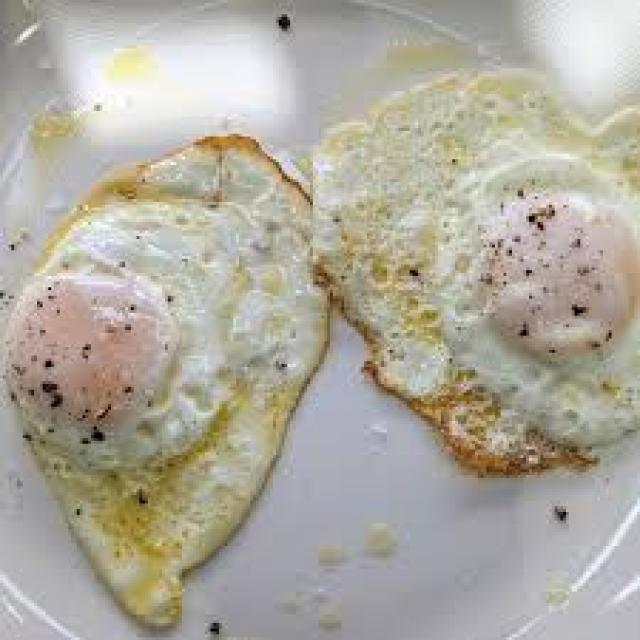Egg: (6, 136, 328, 627), (319, 0, 640, 473)
